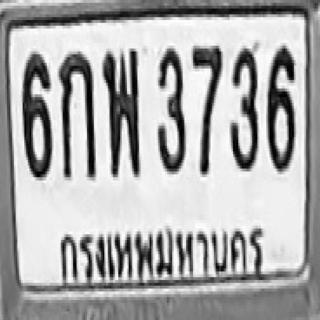A01: (58, 51, 95, 180)
A30: (102, 47, 140, 176)
N03: (156, 46, 185, 171), (229, 46, 258, 169)
N06: (21, 51, 52, 180), (266, 44, 294, 170)
N07: (191, 43, 223, 174)
P04: (53, 212, 273, 290)
